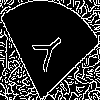Y: (24, 24, 67, 79)
